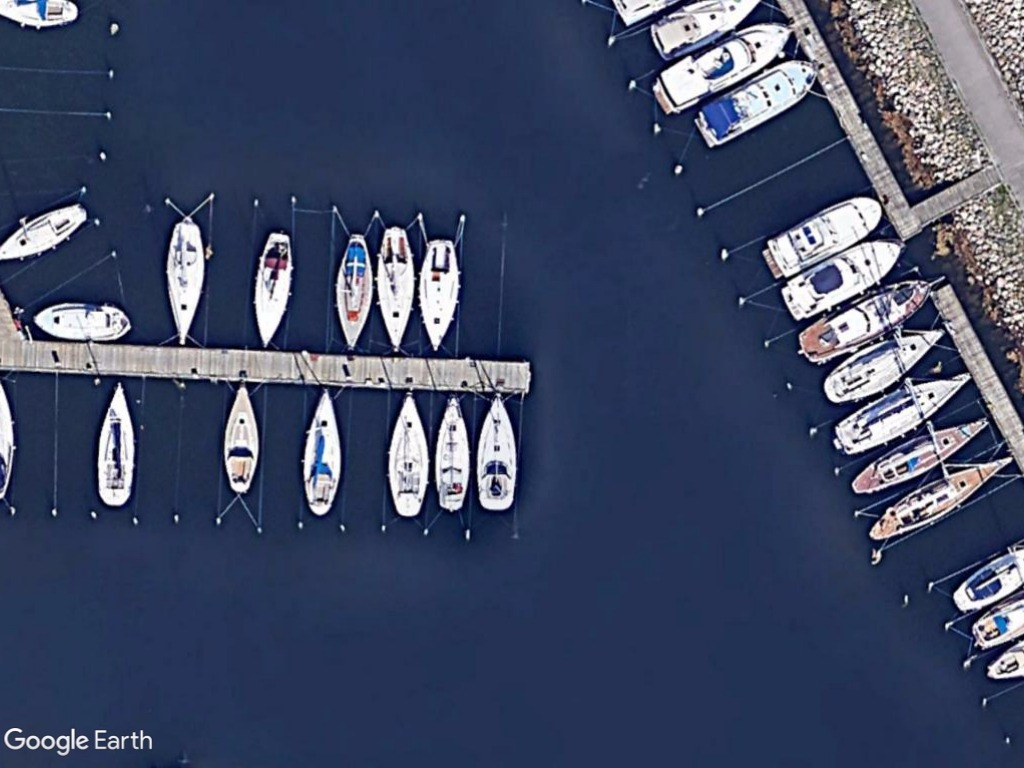boat: (859, 448, 1012, 547), (829, 364, 976, 461), (649, 19, 798, 114), (843, 411, 994, 498), (690, 54, 824, 148), (794, 275, 933, 363), (777, 231, 912, 320), (758, 195, 886, 284), (822, 319, 950, 408), (157, 210, 211, 351), (408, 232, 467, 357), (367, 220, 419, 360), (295, 382, 347, 518), (91, 374, 140, 514), (245, 226, 299, 353), (382, 387, 431, 524), (0, 195, 90, 263), (473, 388, 519, 516), (217, 378, 265, 499), (333, 226, 377, 357), (430, 386, 472, 517), (27, 296, 133, 345)
